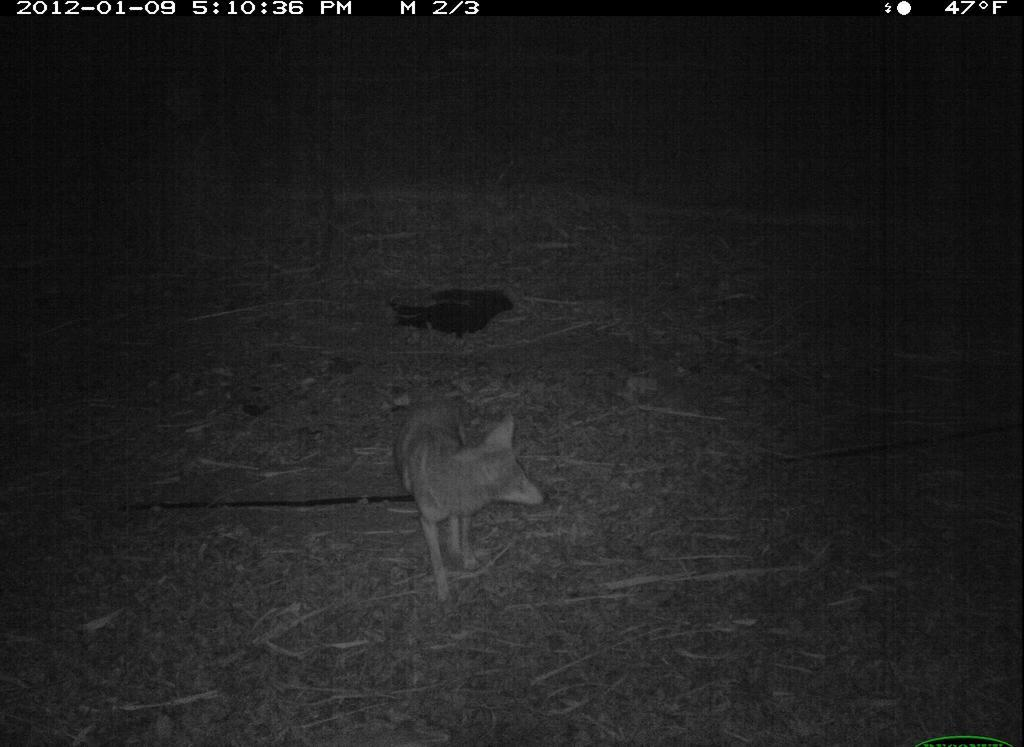coyote: (392, 378, 555, 603)
